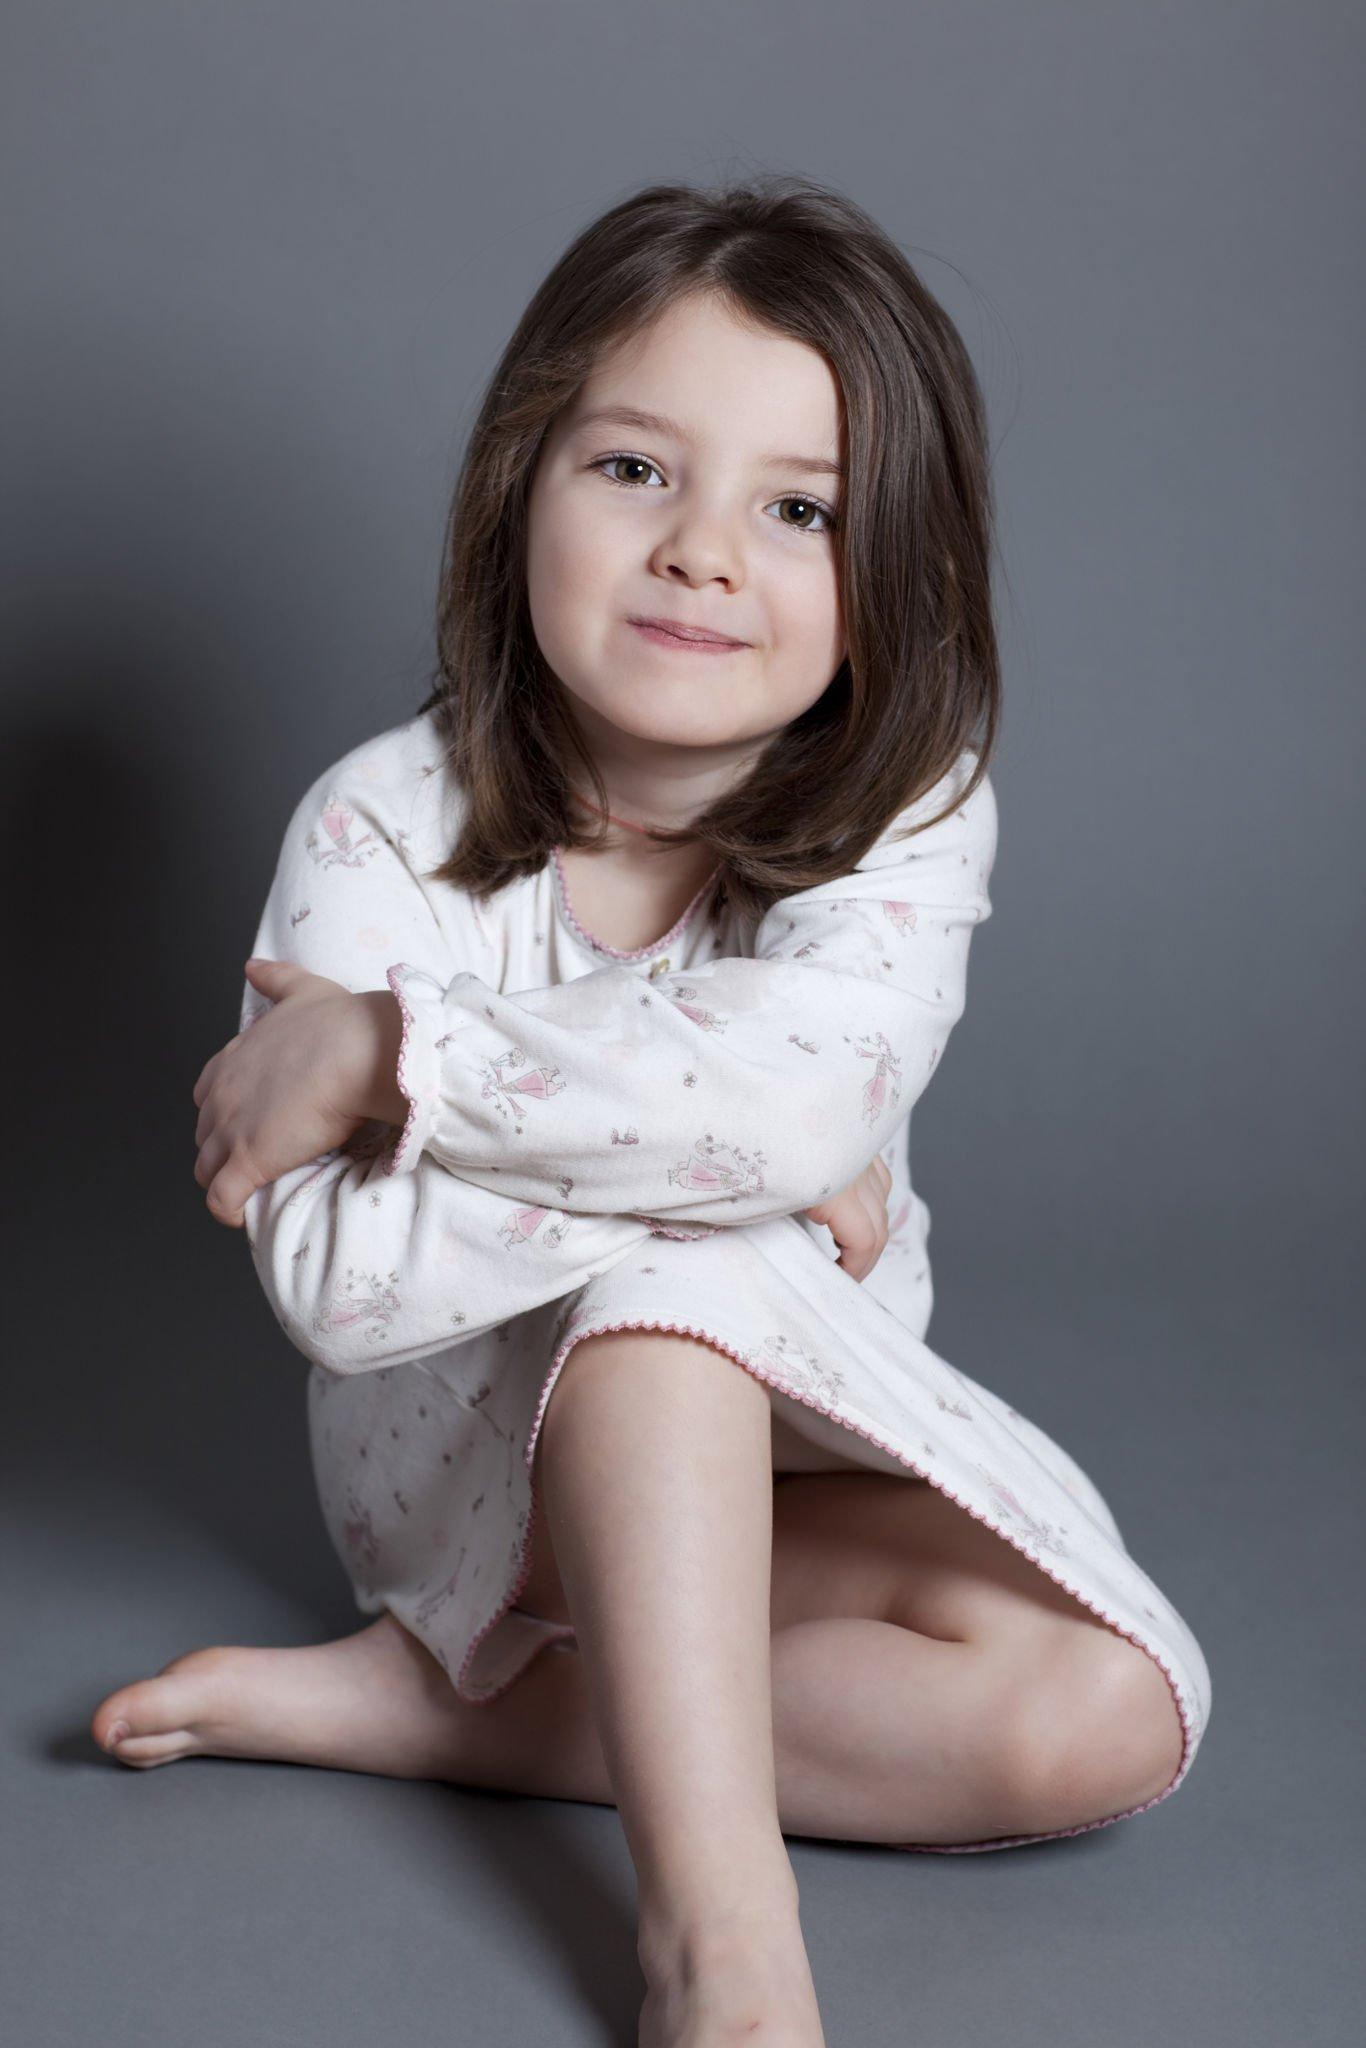Healthy: (471, 250, 936, 789)
